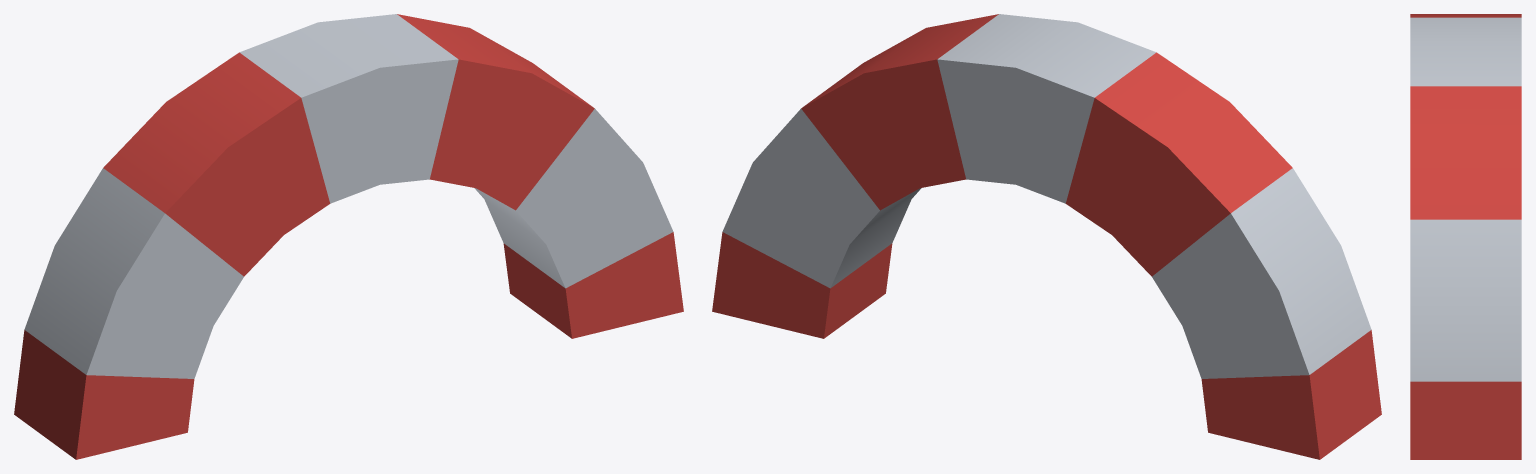
Rendered from checkpoint_arch.glb.
The picture shows the model from 3 angles, left to right: view 1: azimuth 30°, elevation 25°; view 2: azimuth 150°, elevation 25°; view 3: azimuth 270°, elevation 25°; orthographic projection. The views are drawn at different scales.
Visible parts, largest first — view 1: checkpoint_arch; view 2: checkpoint_arch; view 3: checkpoint_arch.
Part boxes in pixels (<box>): checkpoint_arch: <box>14,14,683,459</box>; checkpoint_arch: <box>712,14,1381,459</box>; checkpoint_arch: <box>1410,14,1521,459</box>.
Size of the model in its own units: 13 by 6.5 by 2.3.
